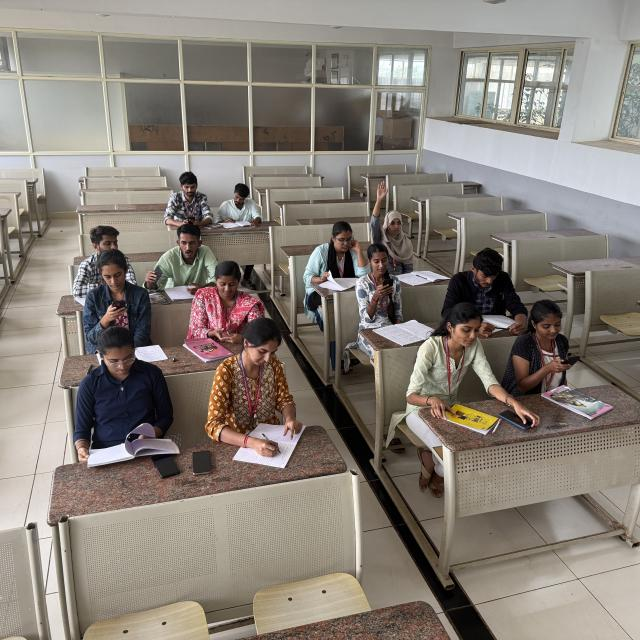Hand Rising: (367, 181, 416, 272)
Reading: (68, 329, 175, 465), (444, 248, 528, 329), (306, 217, 369, 291), (214, 180, 265, 238)
Using Phone: (81, 250, 158, 346), (186, 260, 261, 344), (512, 300, 580, 384), (356, 243, 406, 320), (161, 167, 214, 228)
Writing: (206, 319, 306, 462)
